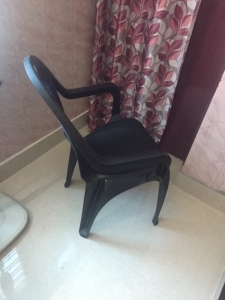chair: (23, 55, 171, 239)
